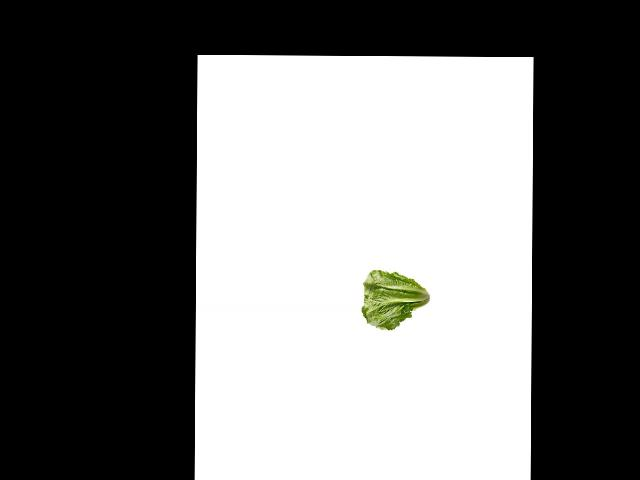lettuce: (360, 272, 433, 332)
